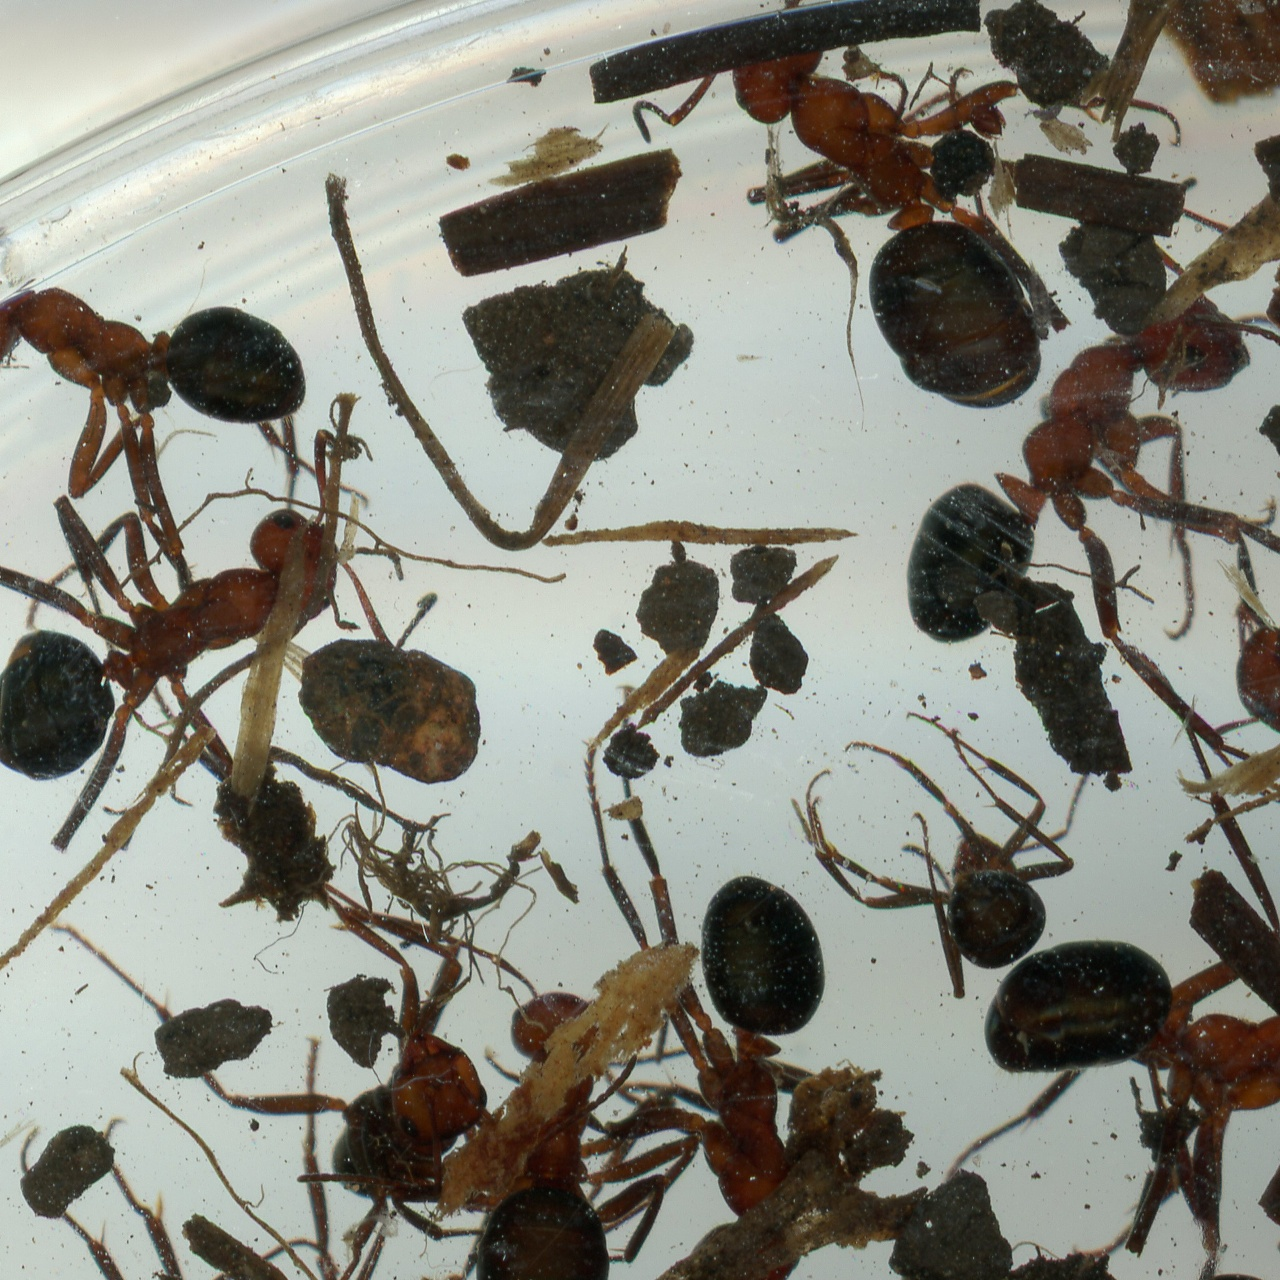arthropod: (622, 0, 1091, 490), (892, 279, 1280, 699), (559, 823, 897, 1280), (0, 508, 413, 864), (57, 921, 497, 1208), (372, 893, 690, 1280), (931, 930, 1280, 1267), (0, 290, 332, 560), (9, 1097, 492, 1280), (788, 717, 1087, 1007), (1108, 1082, 1280, 1280), (1203, 474, 1280, 749)
